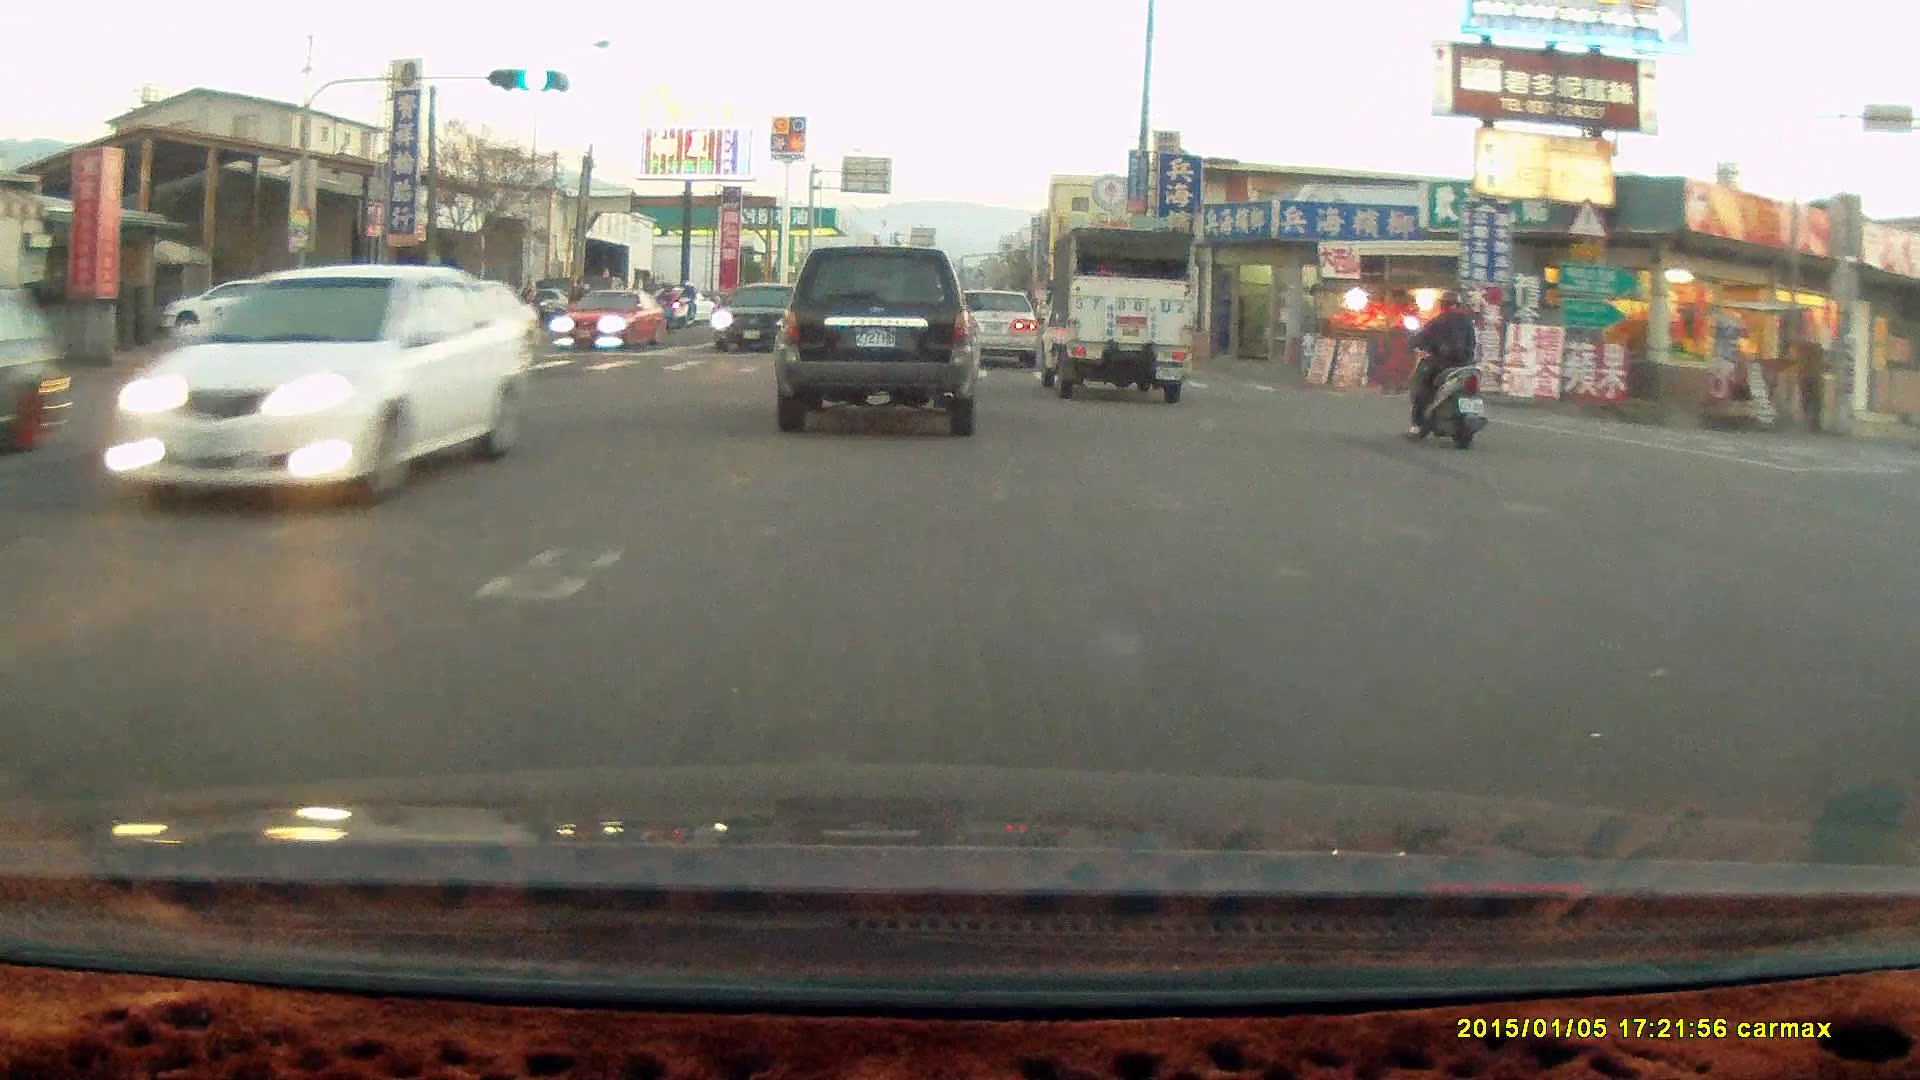rider: (1400, 284, 1487, 445), (668, 278, 698, 327)
vehicle: (111, 261, 531, 512), (771, 244, 984, 436), (1031, 226, 1195, 403), (334, 284, 527, 396), (162, 279, 312, 333), (711, 281, 821, 354), (944, 286, 1037, 368), (951, 289, 1041, 370), (566, 285, 665, 352)
